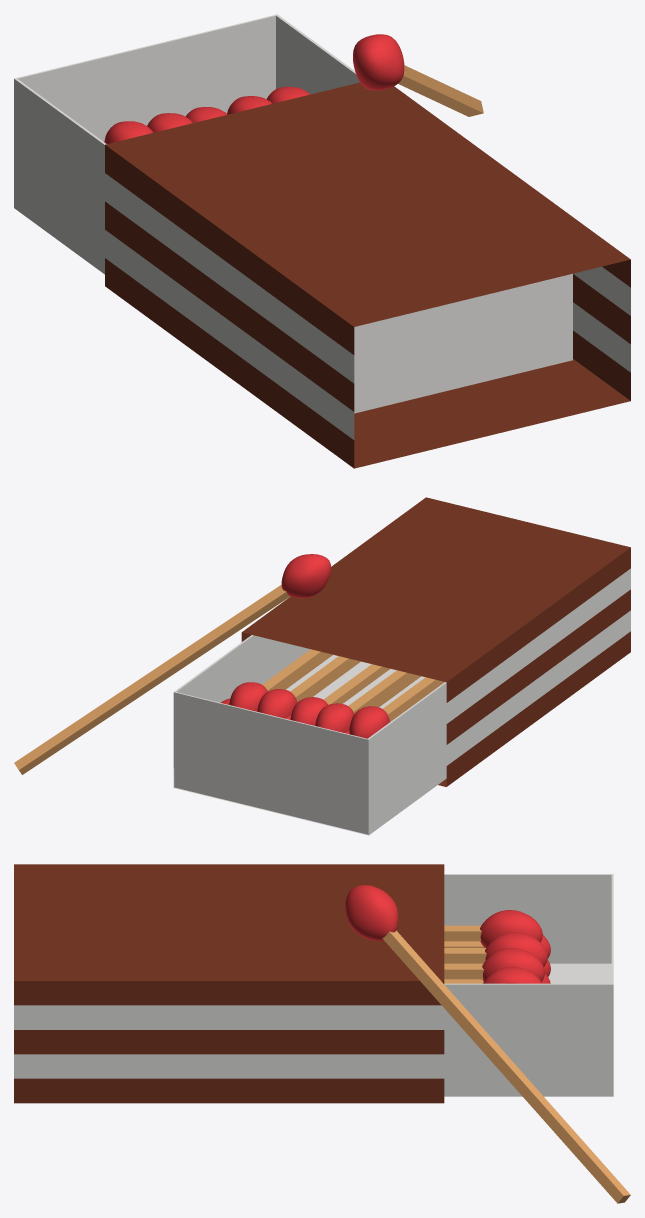
File: macth.fbx
3 views of the same model, one above another, from view 1: azimuth 30°, elevation 25°; view 2: azimuth 150°, elevation 25°; view 3: azimuth 270°, elevation 25° (orthographic). The views are drawn at different scales.
Visible parts, largest first — view 1: 立方体.001, Cube, 立方体.012, 立方体.007; view 2: 立方体.001, Cube, 立方体.012, 立方体.010, 立方体.007, 立方体.008, 立方体.011, 立方体.009; view 3: 立方体.001, Cube, 立方体.012, 立方体.007, 立方体.009, 立方体.008, 立方体.010.
Part boxes in pixels (x1,y1,x2,y2): 立方体.001: [105, 82, 630, 468]; Cube: [14, 14, 572, 413]; 立方体.012: [353, 34, 483, 116]; 立方体.007: [104, 121, 153, 143]; 立方体.001: [241, 497, 630, 786]; Cube: [173, 635, 446, 835]; 立方体.012: [14, 554, 331, 774]; 立方体.010: [257, 656, 356, 718]; 立方体.007: [349, 677, 443, 738]; 立方体.008: [315, 670, 415, 732]; 立方体.011: [229, 649, 328, 711]; 立方体.009: [290, 664, 390, 725]; 立方体.001: [14, 864, 444, 1103]; Cube: [444, 874, 613, 1096]; 立方体.012: [345, 885, 630, 1203]; 立方体.007: [444, 910, 542, 947]; 立方体.009: [444, 948, 545, 981]; 立方体.008: [444, 932, 547, 966]; 立方体.010: [444, 967, 542, 983].
Bounding box in the file's own units: 413 × 203 × 533.
